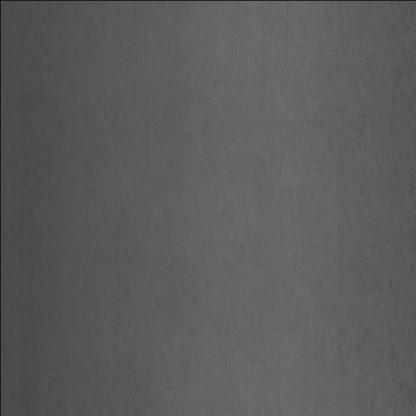silk_spot: (344, 208, 400, 371)
